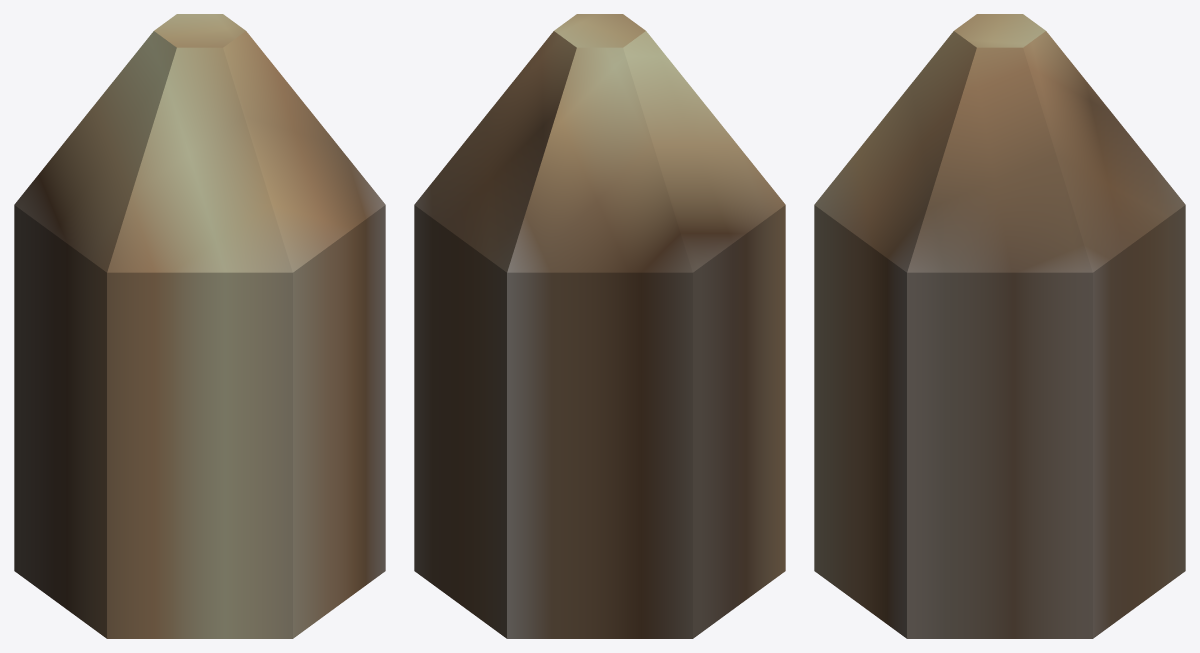
Rendered from german_130_bullet.fbx.
3 renders of one model, left to right at view 1: azimuth 30°, elevation 25°; view 2: azimuth 150°, elevation 25°; view 3: azimuth 270°, elevation 25°, orthographic.
Visible parts, largest first — view 1: bullet; view 2: bullet; view 3: bullet.
Boxes of the visible parts, x1,y1,x2,y2 form: bullet: [14, 14, 385, 638]; bullet: [414, 14, 785, 638]; bullet: [814, 14, 1185, 638].
Size of the model in its own units: 0.00603 by 0.00696 by 0.0112.
